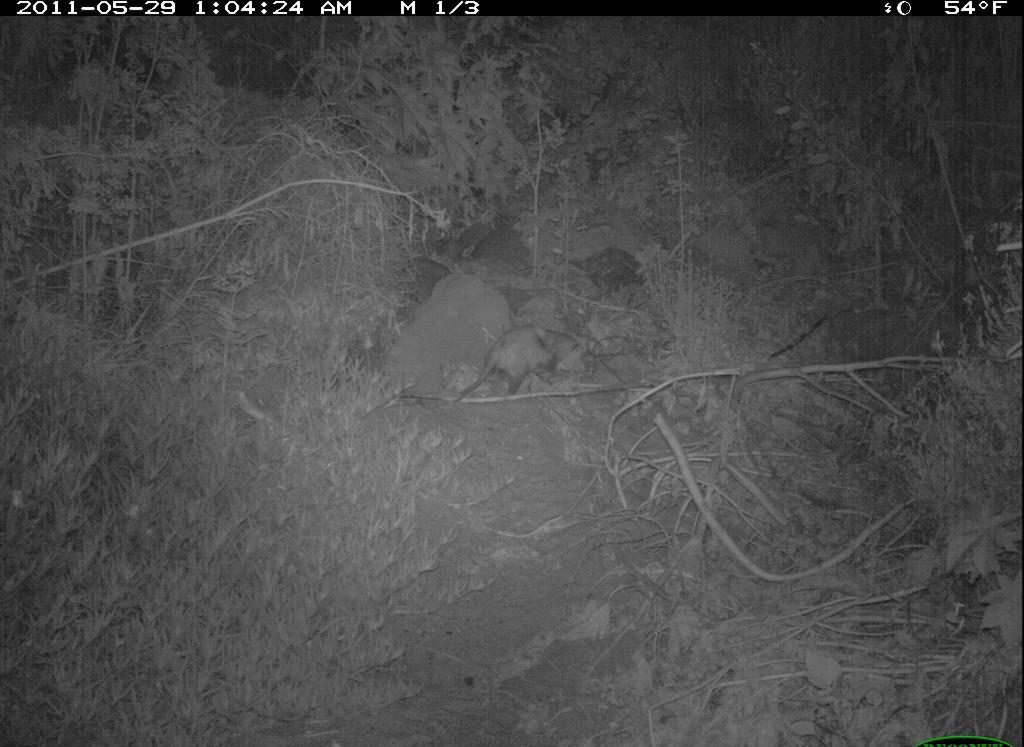opossum: (428, 309, 658, 427)
